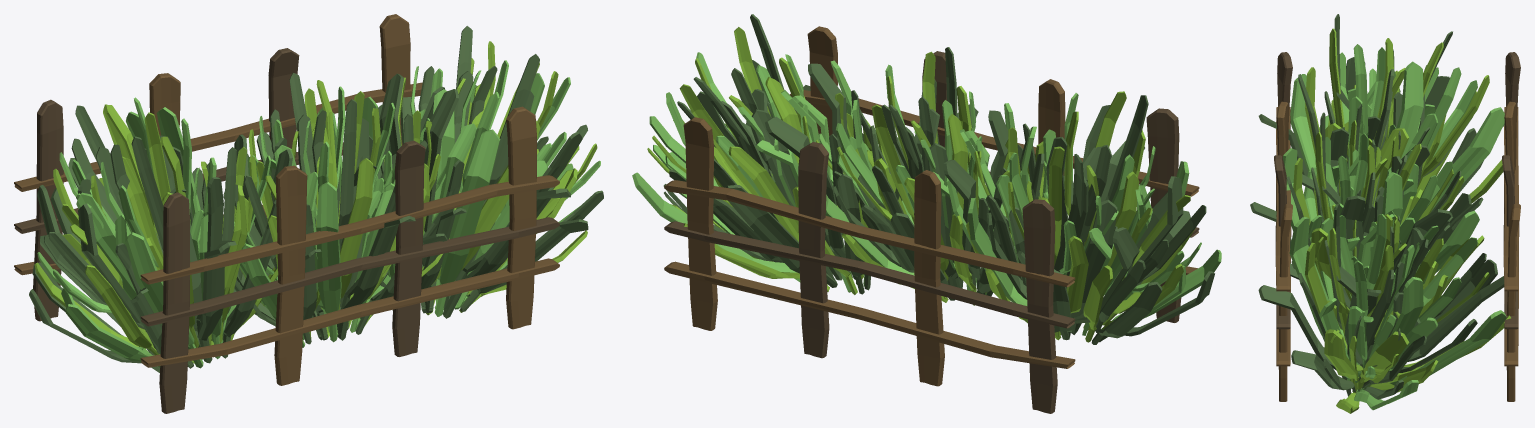
Rendered from ShrubFenceLong 1.fbx.
3 renders of one model, left to right at view 1: azimuth 30°, elevation 25°; view 2: azimuth 150°, elevation 25°; view 3: azimuth 270°, elevation 25°, orthographic. The views are drawn at different scales.
Visible parts, largest first — view 1: Cube.003; view 2: Cube.003; view 3: Cube.003.
Part boxes in pixels (<box>): Cube.003: <box>14,14,603,413</box>; Cube.003: <box>632,14,1221,413</box>; Cube.003: <box>1250,14,1520,413</box>.
Bounding box in the file's own units: 404 × 181 × 185.
